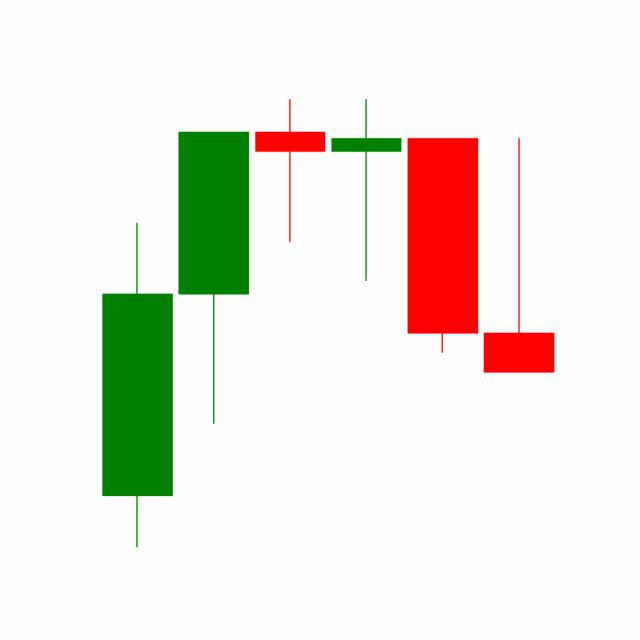Marubozu: (403, 135, 481, 355)
